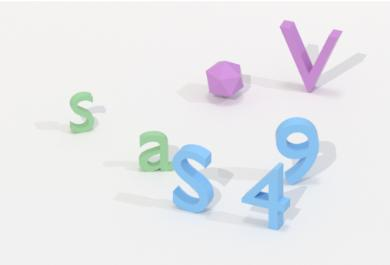0-TronCanh: (204, 56, 246, 102)
4: (238, 162, 293, 233)
9: (275, 114, 321, 187)
S: (171, 142, 218, 216), (65, 86, 99, 138)
V: (276, 16, 345, 98)
a: (135, 127, 175, 176)
